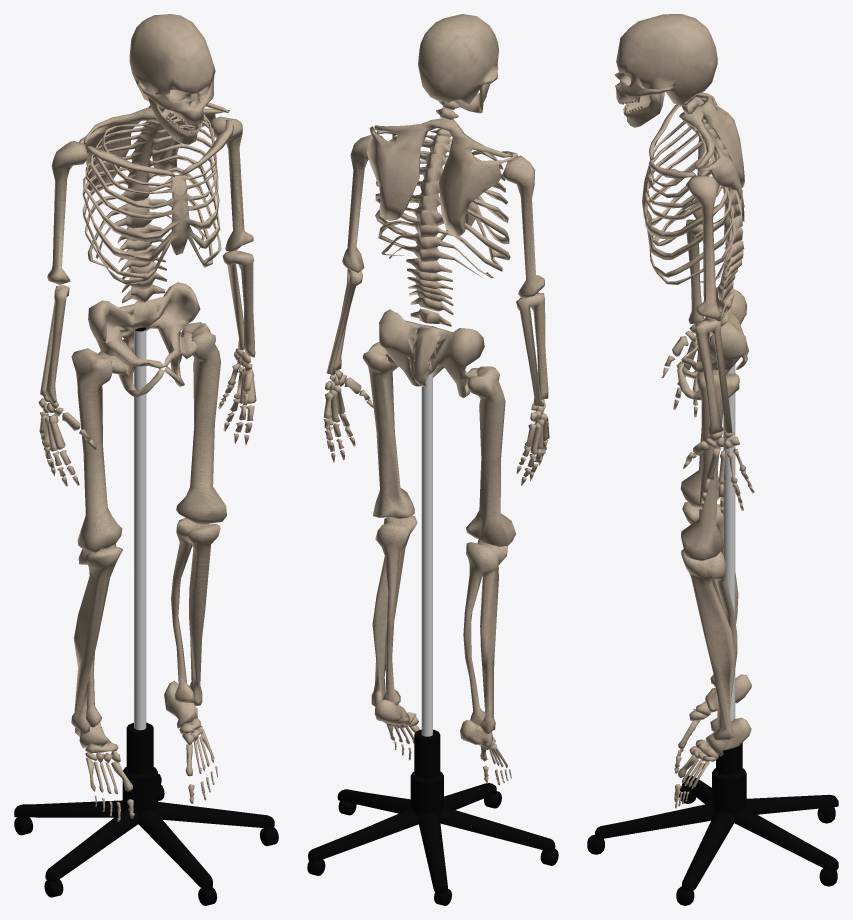
The model's file is SkellyBackup.fbx.
The picture shows the model from 3 angles, left to right: view 1: azimuth 30°, elevation 25°; view 2: azimuth 150°, elevation 25°; view 3: azimuth 270°, elevation 25°; orthographic projection. The views are drawn at different scales.
Visible parts, largest first — view 1: SkellyBody, Stand, SkellyHead; view 2: SkellyBody, Stand, SkellyHead; view 3: SkellyBody, Stand, SkellyHead.
Boxes of the visible parts, box(x1,y1,x2,y2) form: SkellyBody: box(38, 102, 256, 821); Stand: box(14, 327, 278, 905); SkellyHead: box(129, 14, 215, 144); SkellyBody: box(323, 101, 549, 785); Stand: box(307, 372, 558, 905); SkellyHead: box(418, 14, 498, 113); SkellyBody: box(642, 92, 754, 808); Stand: box(587, 364, 838, 905); SkellyHead: box(614, 14, 717, 127).
Size of the model in its own units: 43.78 by 158 by 43.19.
Materials: 3 (1 with a texture image).
